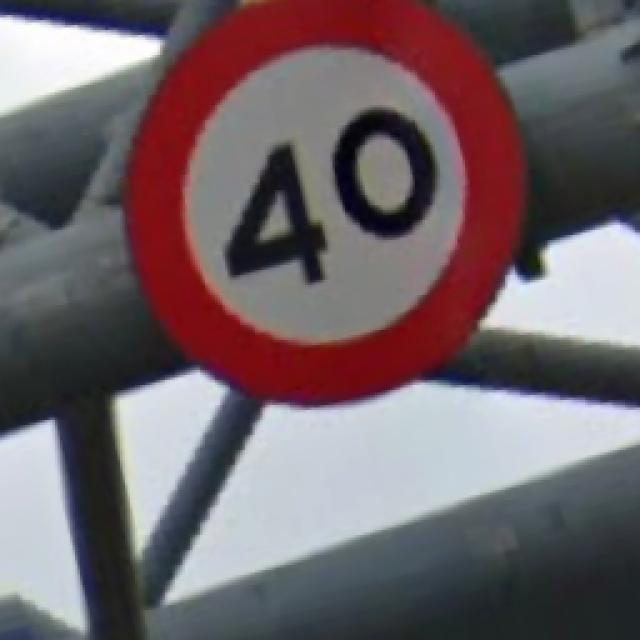Speed Limit -40-: (128, 0, 522, 400)
